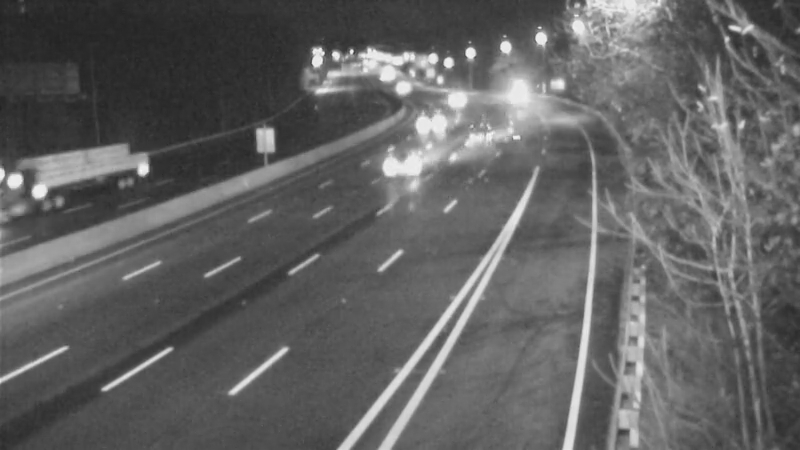vehicle: (356, 130, 436, 210), (44, 139, 124, 219), (376, 65, 426, 115), (433, 79, 483, 129), (488, 73, 538, 123), (403, 99, 453, 149), (454, 115, 504, 165)
